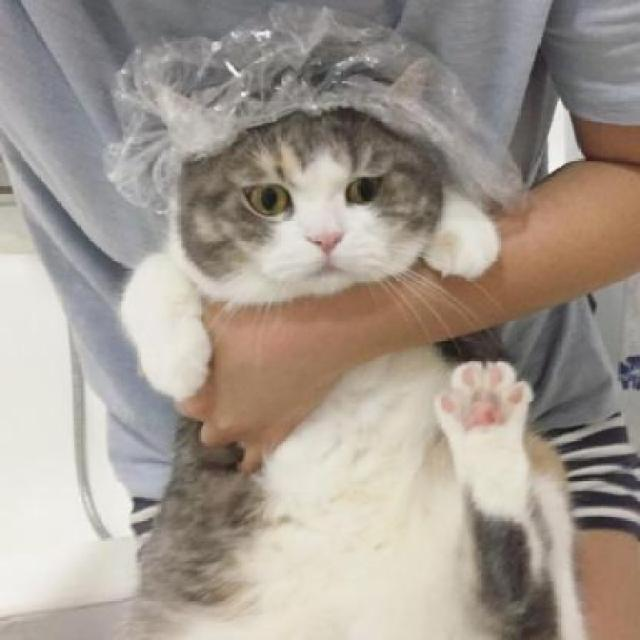cat: (123, 98, 589, 640)
